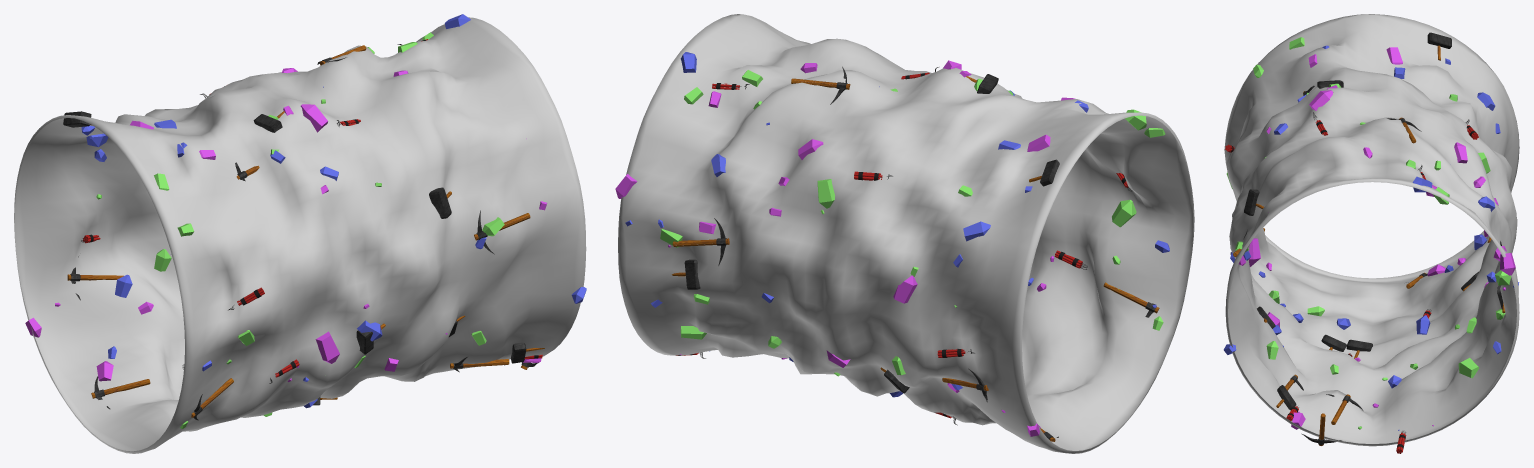
File: Cavething.fbx
3 renders of one model, left to right at view 1: azimuth 30°, elevation 25°; view 2: azimuth 150°, elevation 25°; view 3: azimuth 270°, elevation 25°, orthographic. The views are drawn at different scales.
Parts seen in each view (by area): view 1: Cylinder; view 2: Cylinder; view 3: Cylinder.
Boxes of the visible parts, x1=… form: Cylinder: x1=14, y1=14, x2=586, y2=453; Cylinder: x1=615, y1=14, x2=1194, y2=453; Cylinder: x1=1223, y1=14, x2=1519, y2=453.
Bounding box in the file's own units: 1642 × 1186 × 1174.
